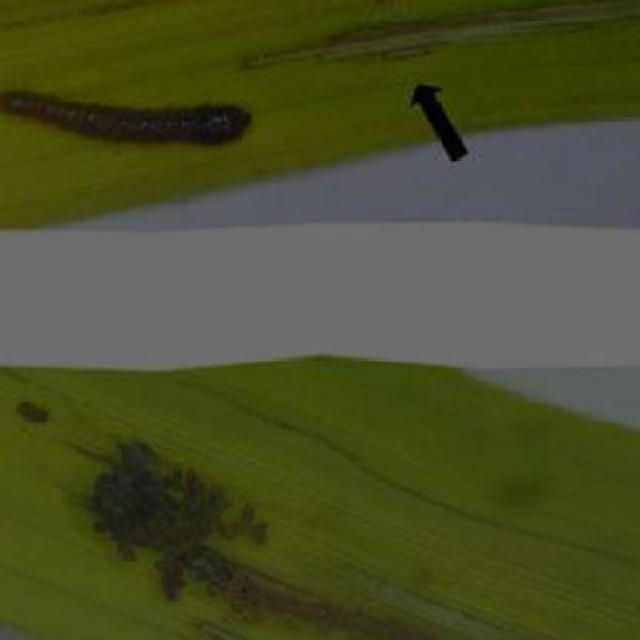leaf-folder: (69, 424, 229, 590), (0, 74, 271, 154), (261, 584, 406, 640)
